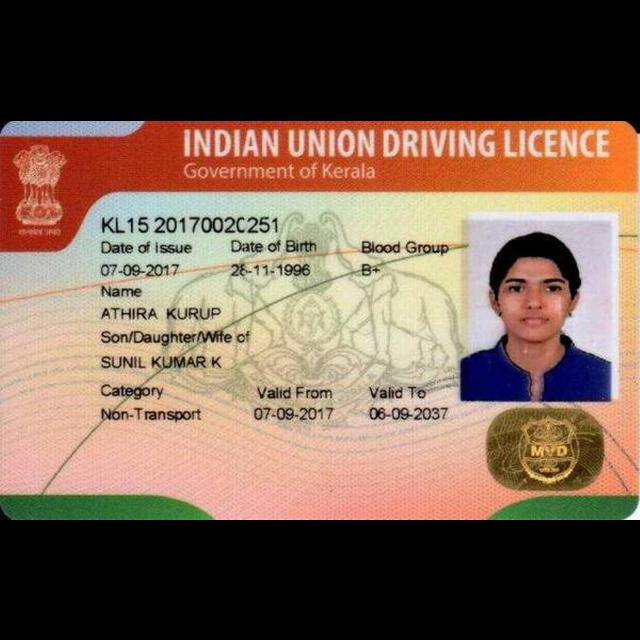driving_licence: (0, 120, 640, 520)
